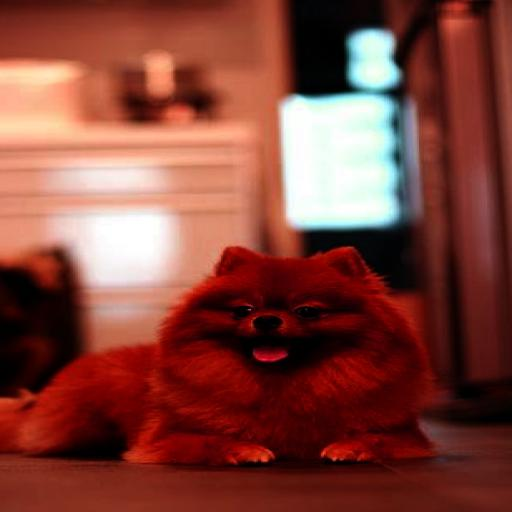dog_face: (192, 248, 383, 365)
